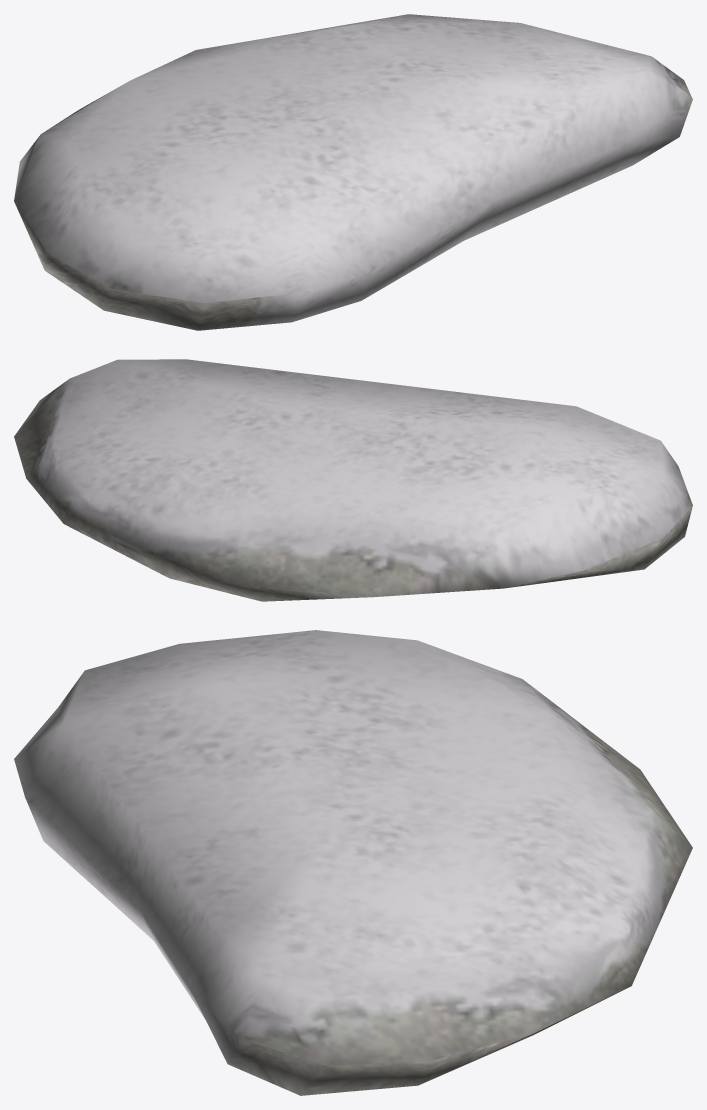
File: general_obj_stone14_lod_01.glb
The picture shows the model from 3 angles, top to bottom: view 1: azimuth 30°, elevation 25°; view 2: azimuth 150°, elevation 25°; view 3: azimuth 270°, elevation 25°; orthographic projection. The views are drawn at different scales.
Visible parts, largest first — view 1: Sphere01; view 2: Sphere01; view 3: Sphere01.
Part boxes in pixels (x1=…): Sphere01: x1=14, y1=14, x2=692, y2=330; Sphere01: x1=14, y1=359, x2=692, y2=601; Sphere01: x1=14, y1=630, x2=692, y2=1095.
Bounding box in the file's own units: 6.72 × 1.04 × 4.74.
1 material, 1 textured.
